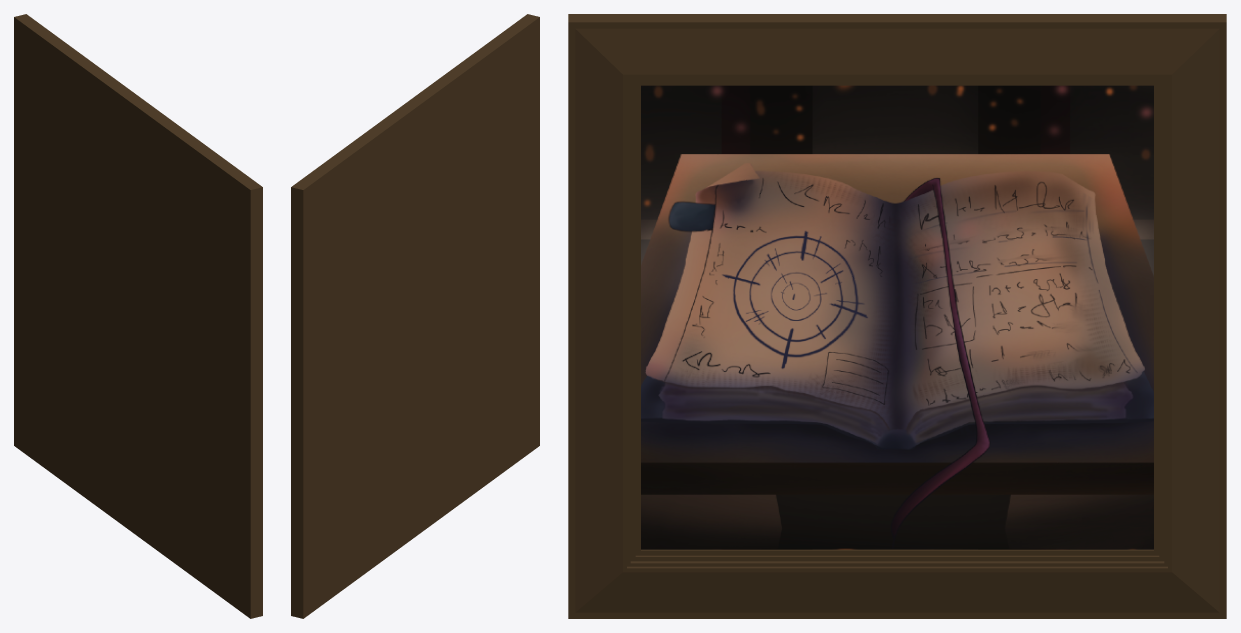
File: frame.glb
The picture shows the model from 3 angles, left to right: view 1: azimuth 30°, elevation 25°; view 2: azimuth 150°, elevation 25°; view 3: azimuth 270°, elevation 25°; orthographic projection. The views are drawn at different scales.
Parts seen in each view (by area): view 1: frame; view 2: frame; view 3: pic, frame.
Part boxes in pixels (<box>): frame: <box>14,14,262,618</box>; frame: <box>291,14,539,618</box>; pic: <box>641,85,1153,549</box>; frame: <box>568,14,1226,618</box>.
Size of the model in its own units: 0.2443 by 6.13 by 6.13.
Materials: 2 (1 with a texture image).
